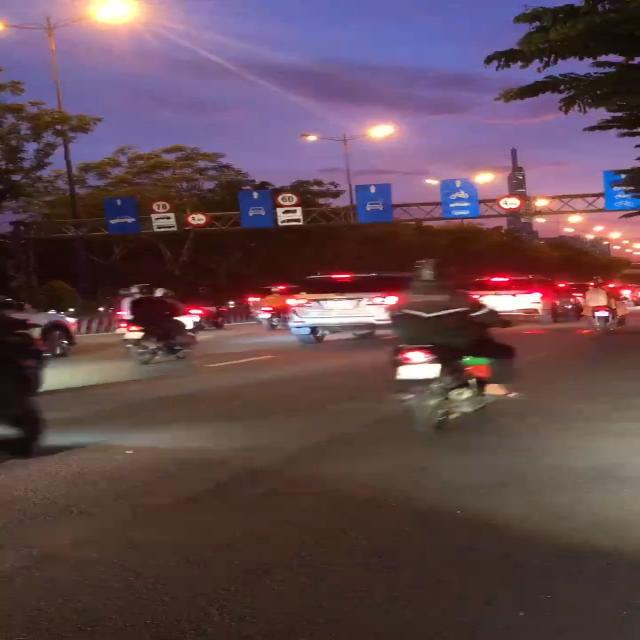Bien bao toc do toi da cho phep: (274, 192, 300, 209), (149, 199, 175, 213)
